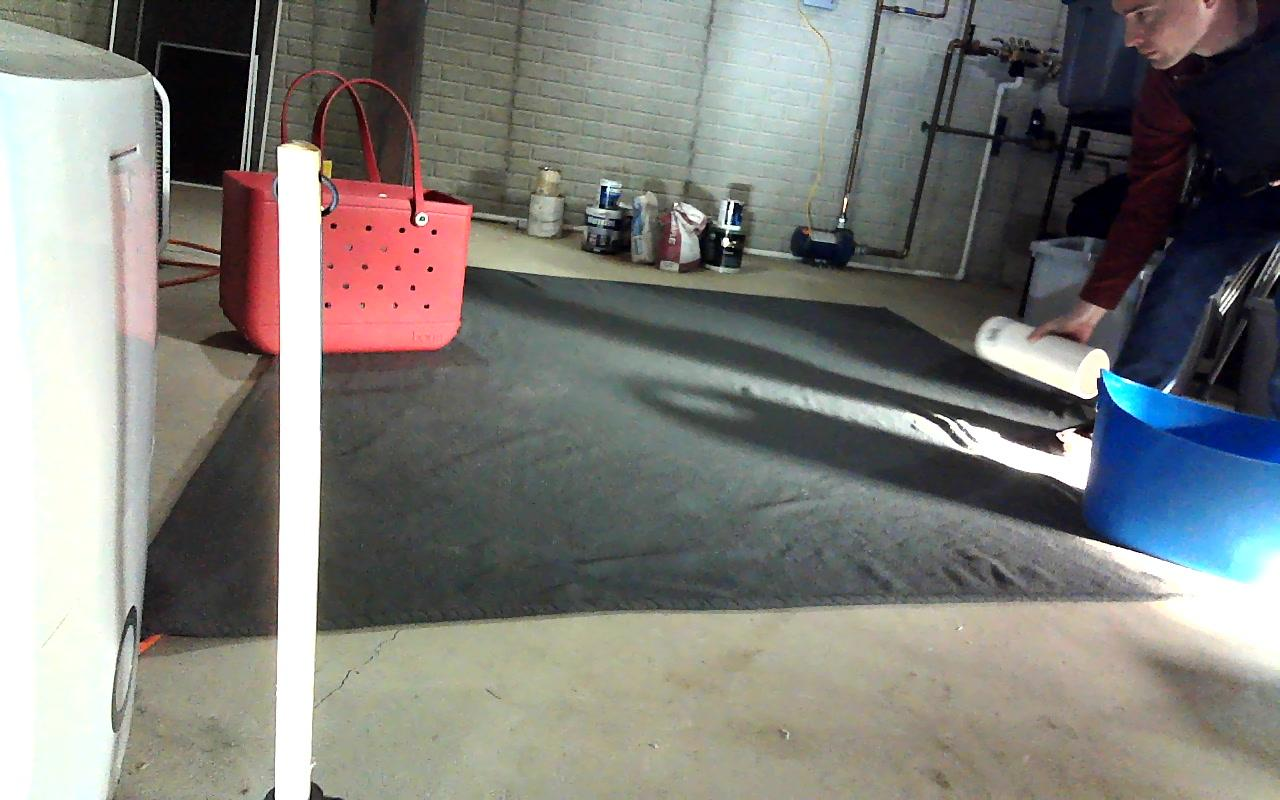coral: (977, 315, 1111, 398)
